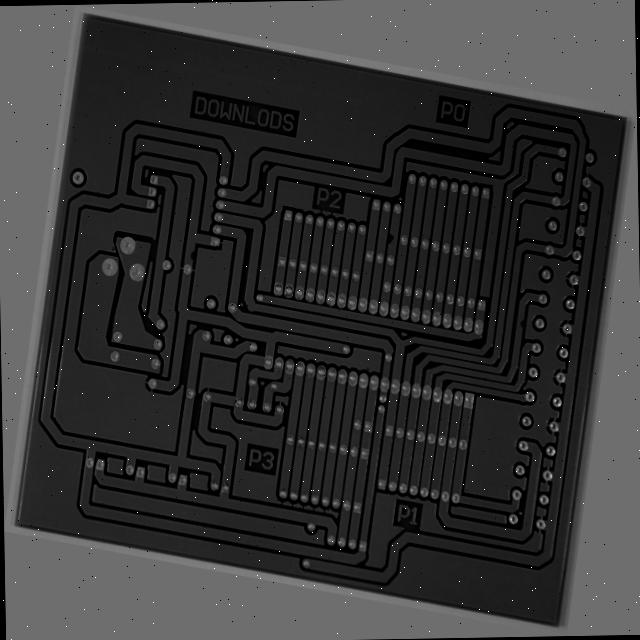mouse_bite: (379, 197, 392, 217), (160, 264, 173, 284), (537, 265, 549, 286)
